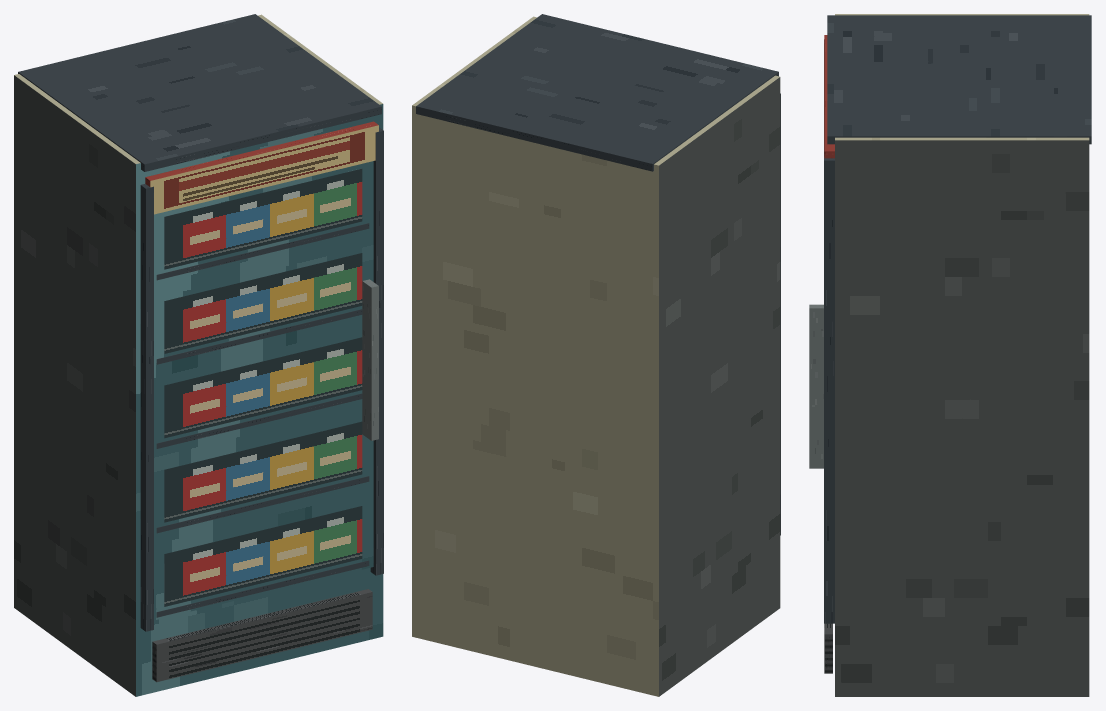
File: refrigerador_vertical_bebidas_c02.glb
The picture shows the model from 3 angles, left to right: view 1: azimuth 30°, elevation 25°; view 2: azimuth 150°, elevation 25°; view 3: azimuth 270°, elevation 25°; orthographic projection. The views are drawn at different scales.
Visible parts, largest first — view 1: refrigerador_vertical_bebidas_c02; view 2: refrigerador_vertical_bebidas_c02; view 3: refrigerador_vertical_bebidas_c02.
Boxes of the visible parts, box(x1,y1,x2,y2) form: refrigerador_vertical_bebidas_c02: box(14, 14, 383, 696); refrigerador_vertical_bebidas_c02: box(412, 14, 780, 696); refrigerador_vertical_bebidas_c02: box(809, 14, 1091, 696).
Size of the model in its own units: 1.03 by 2.12 by 0.9738.
1 material, 1 textured.
